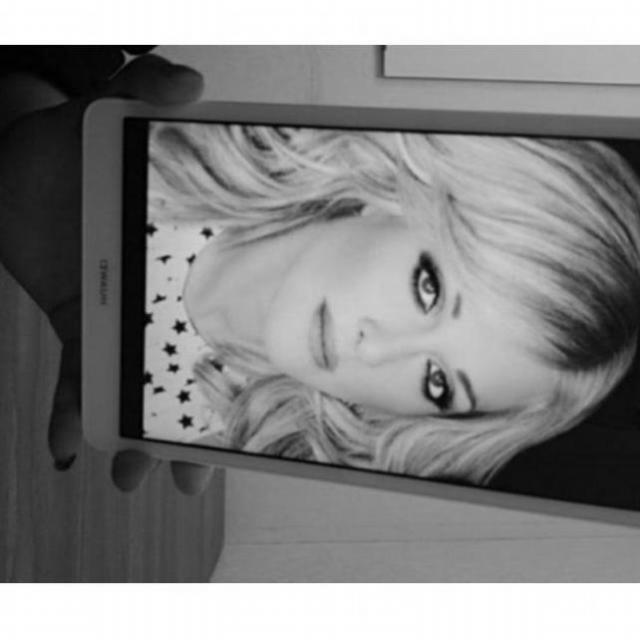fake: (78, 92, 640, 532)
